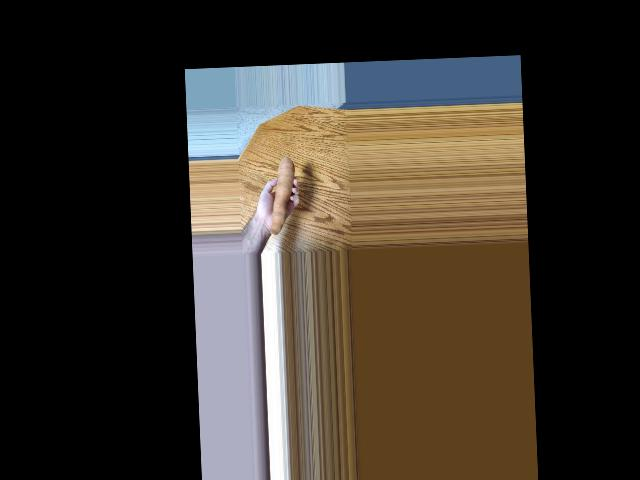sweet_potato: (264, 152, 301, 230)
